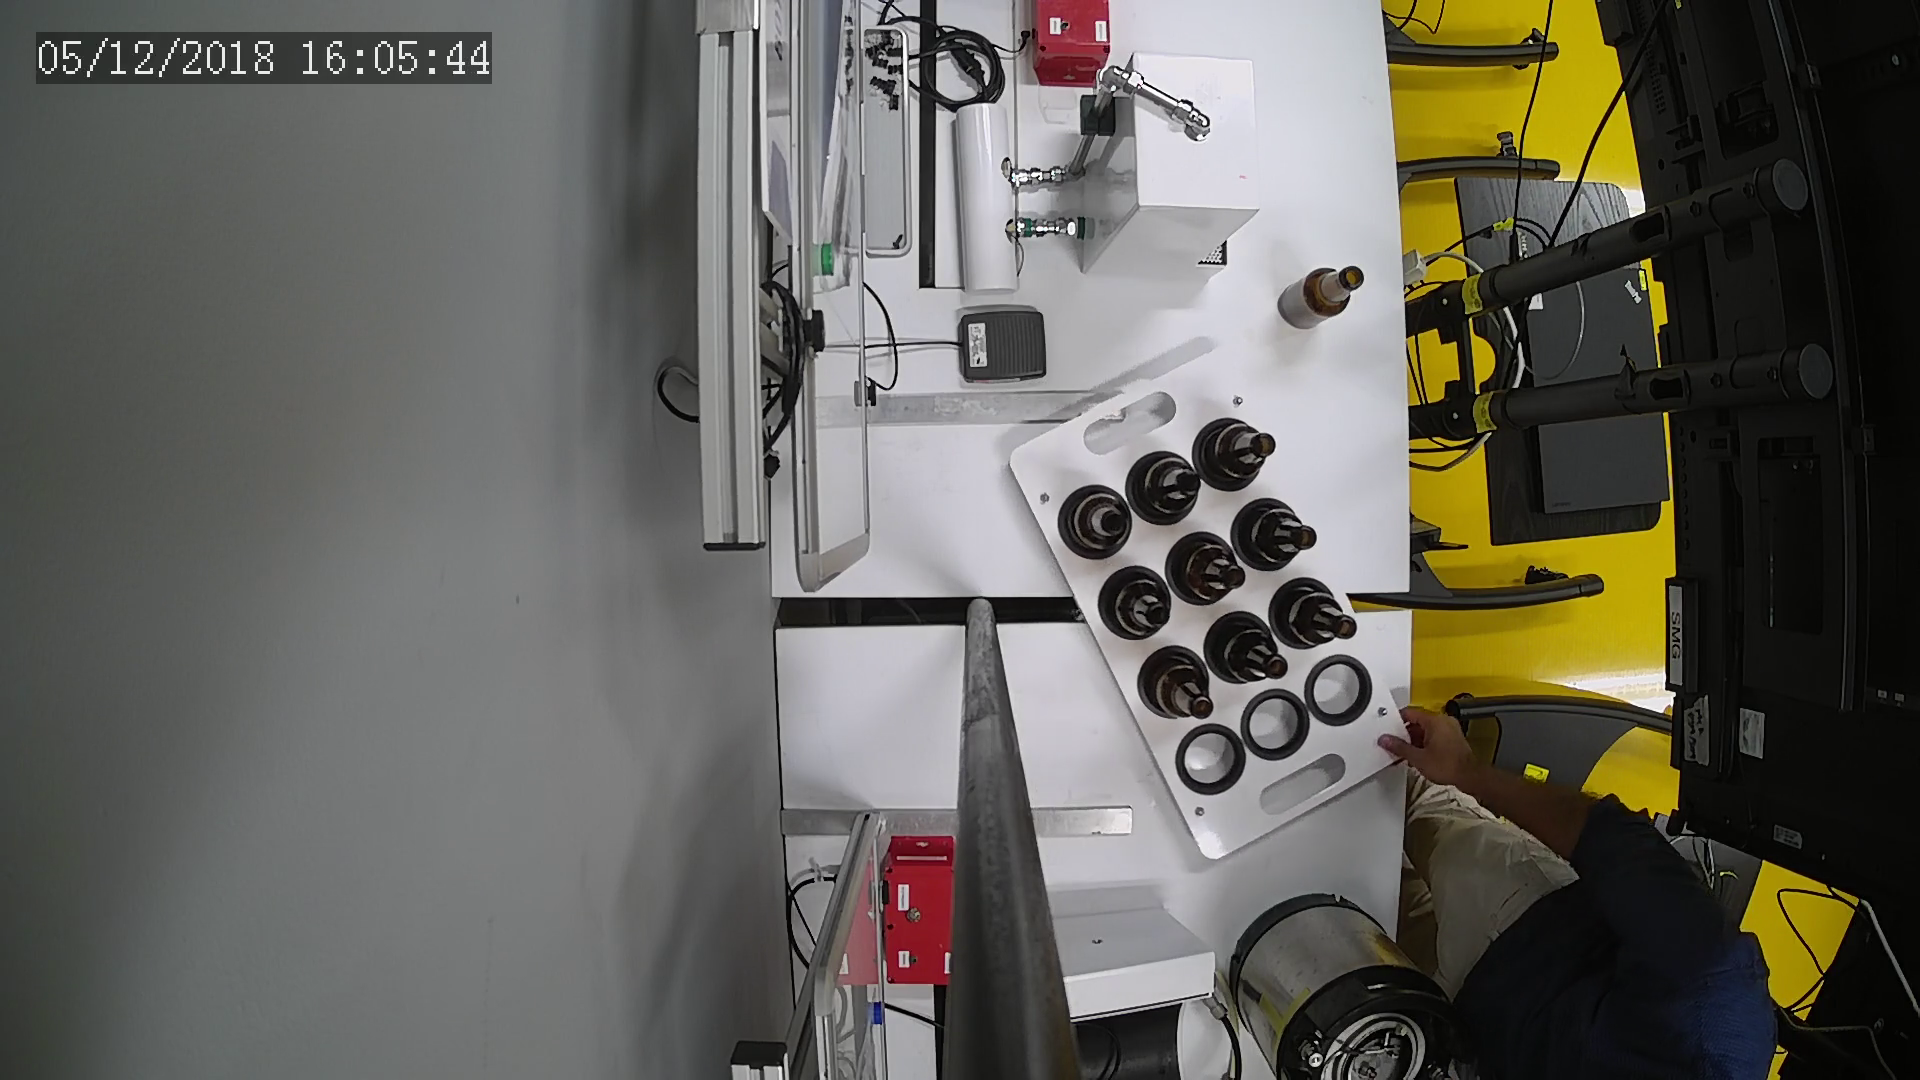filled_bottle: (1133, 645, 1222, 731), (1164, 530, 1251, 613), (1203, 613, 1294, 690), (1095, 568, 1178, 651), (1122, 448, 1208, 527), (1236, 498, 1324, 574), (1270, 582, 1362, 651), (1062, 484, 1137, 568), (1197, 415, 1278, 493)
trolley: (1004, 349, 1418, 865)
unfilled_bottle: (1276, 266, 1370, 336)
